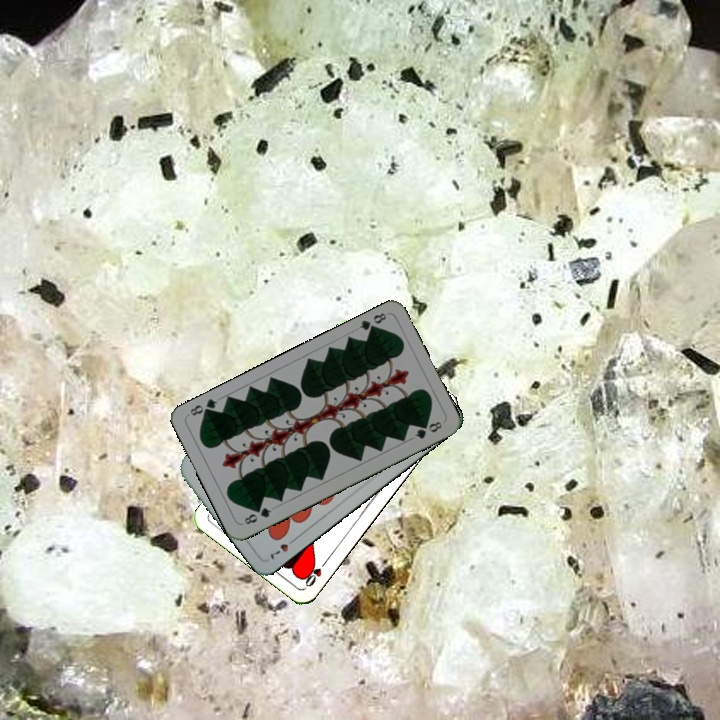G8: (355, 309, 389, 336), (240, 503, 274, 527)
H7: (266, 533, 300, 562)
HO: (299, 555, 330, 590)
